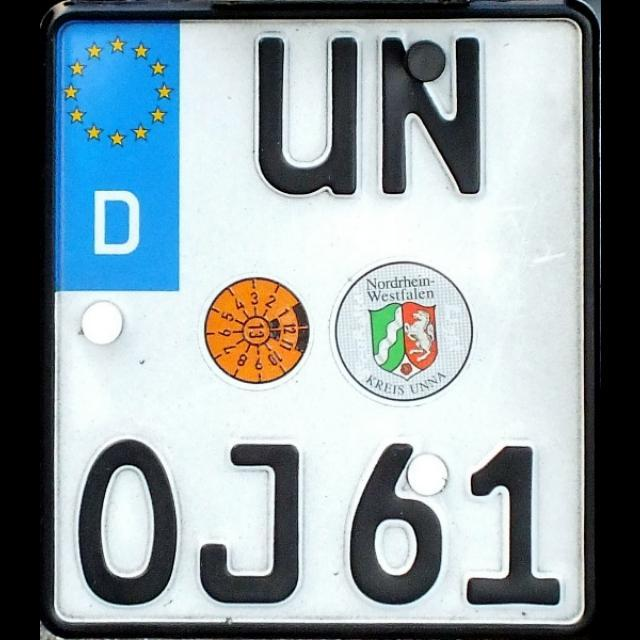license-plates: (41, 0, 600, 640)
